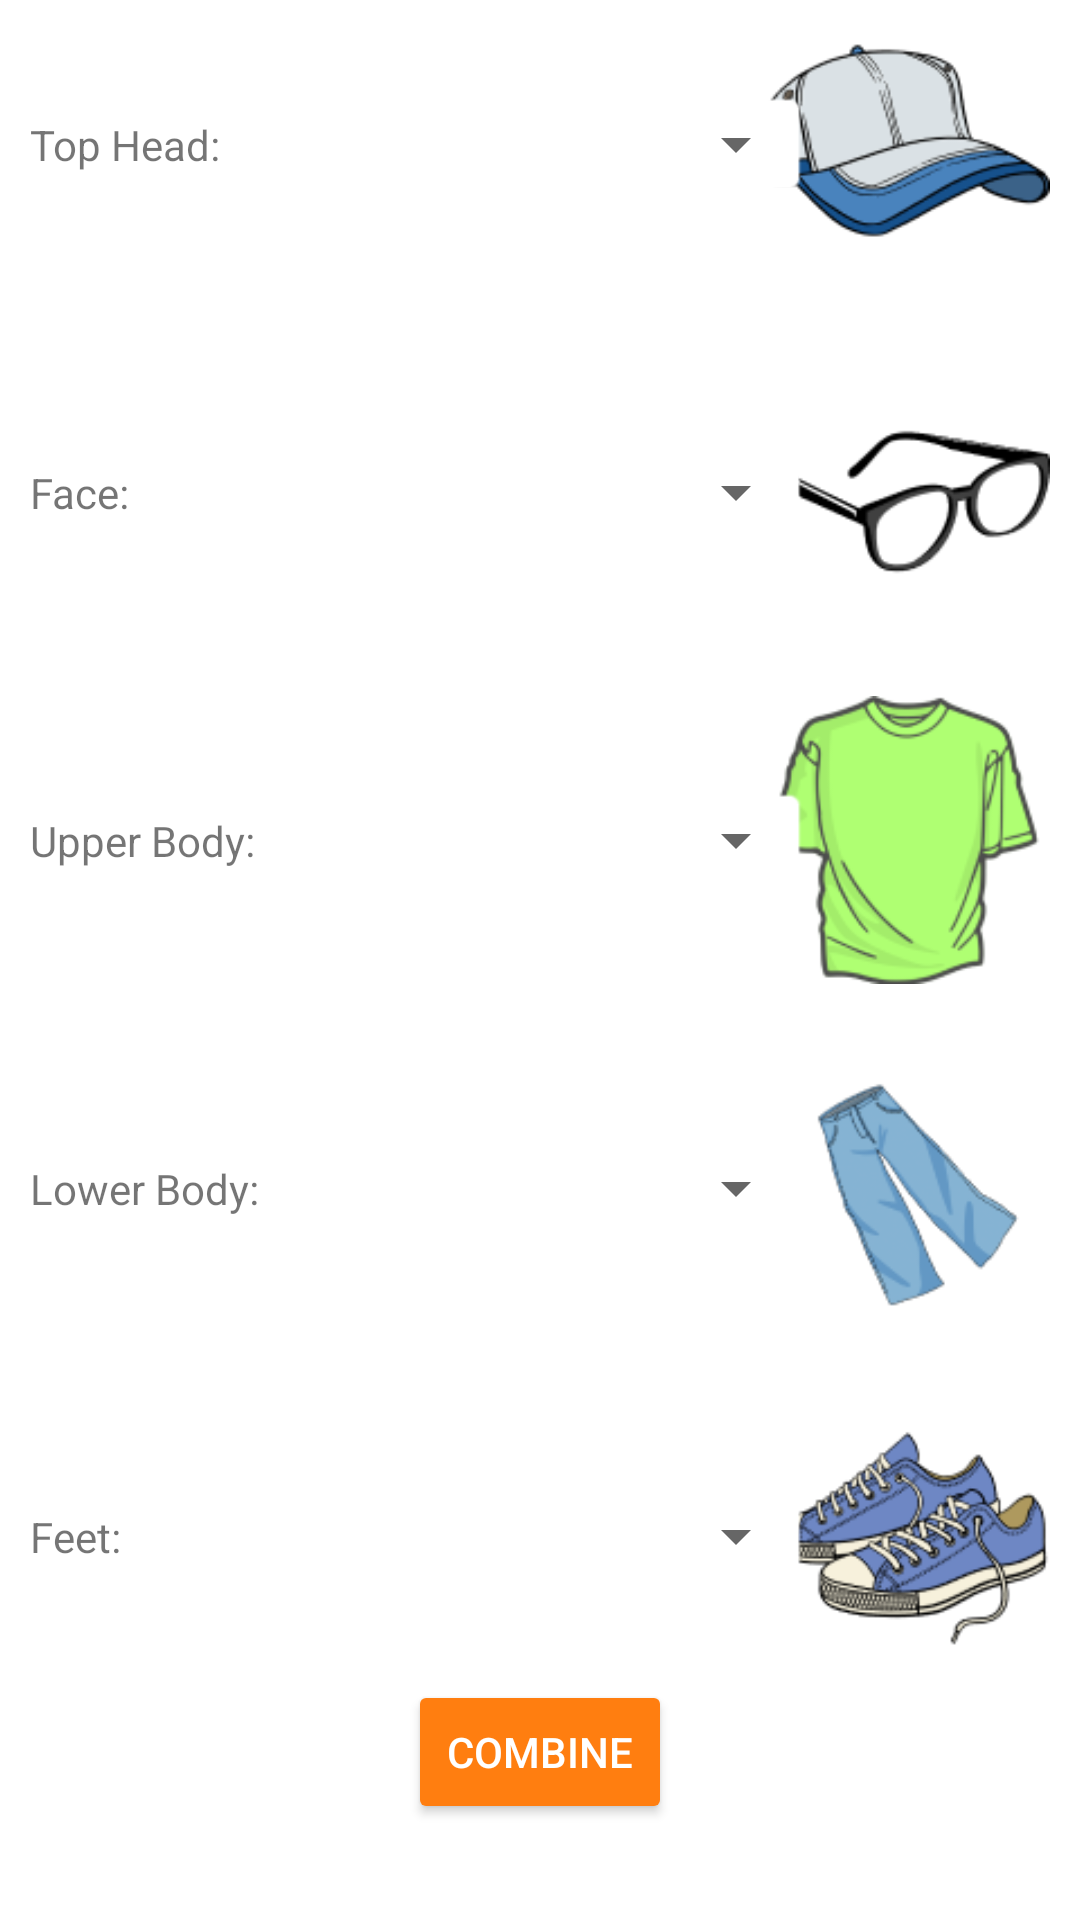

Screen size 1080*1920. Icon name, then its center in pixels as (x,y):
Feet: (923,1538)
glasses: (924,501)
pants: (917,1195)
Top Head: (910,140)
Upper Body: (909,840)
